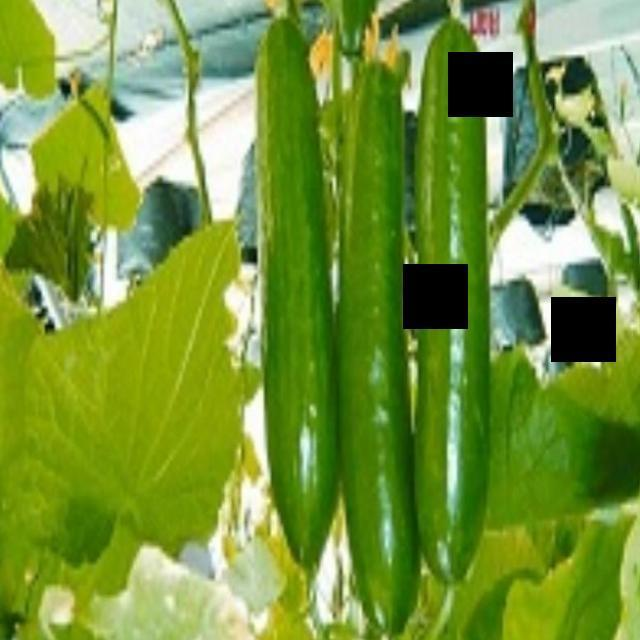cucumber: (338, 64, 418, 640), (260, 19, 336, 578), (418, 31, 488, 593)
